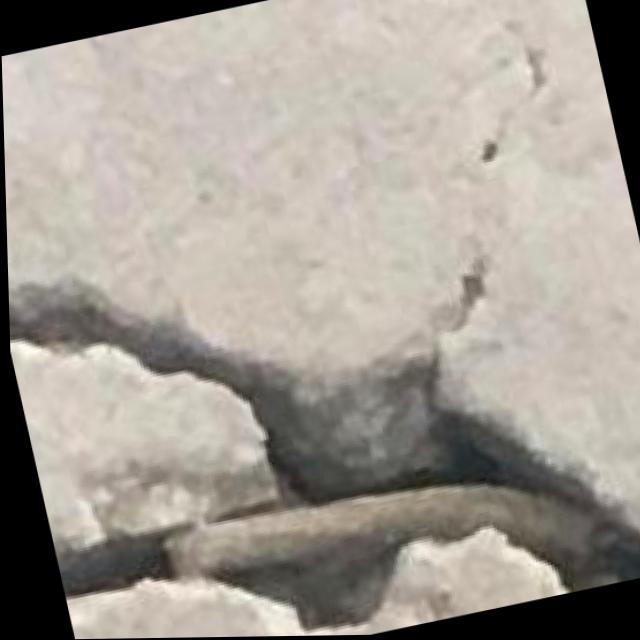Crack: (4, 163, 640, 640)
